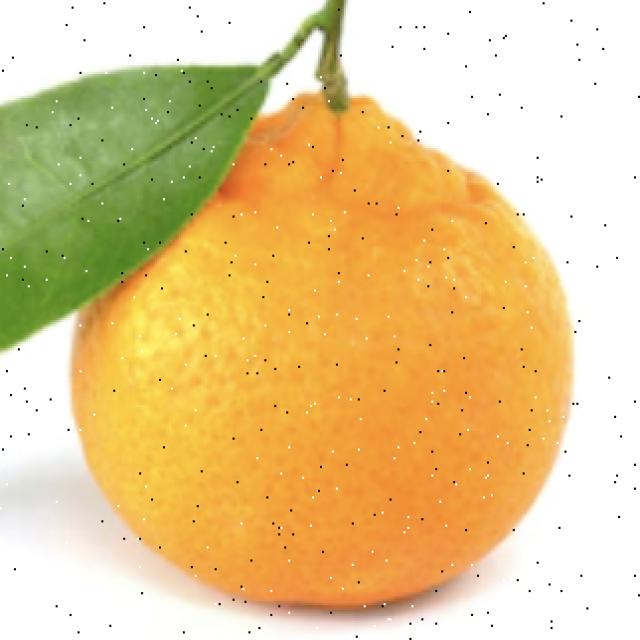orange: (72, 76, 586, 617)
